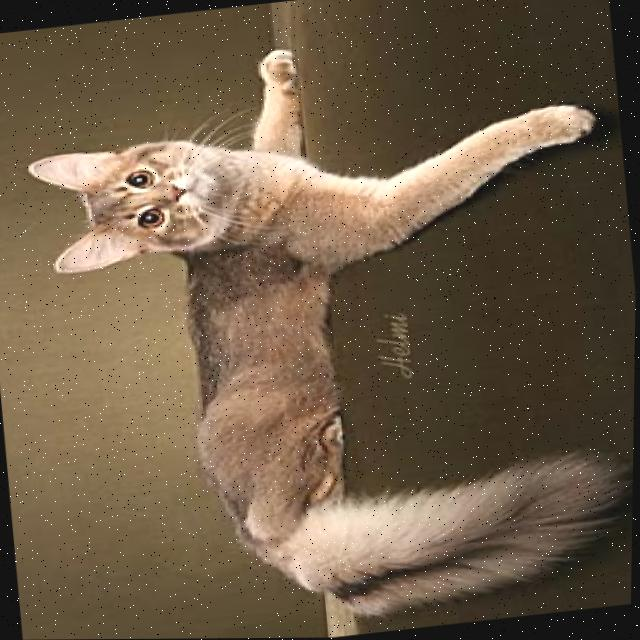Abyssinian: (8, 8, 640, 640)
